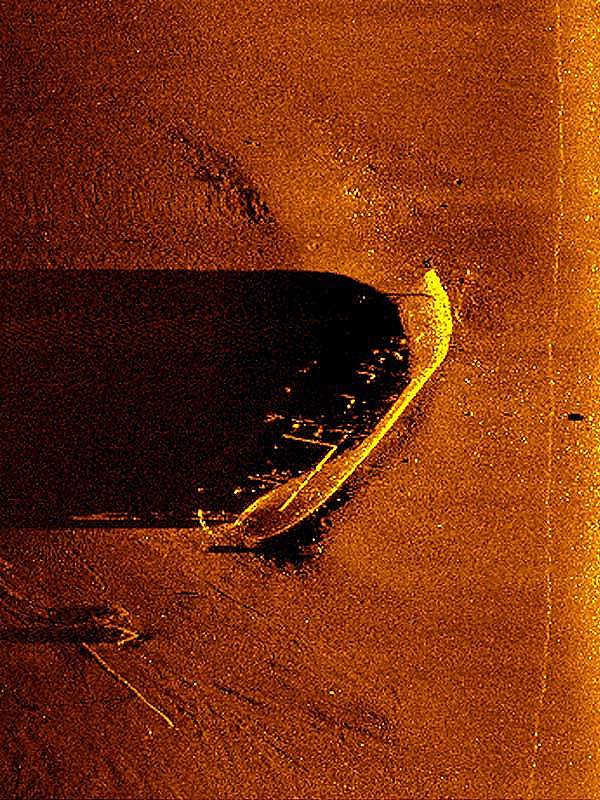ship: (195, 267, 455, 545)
